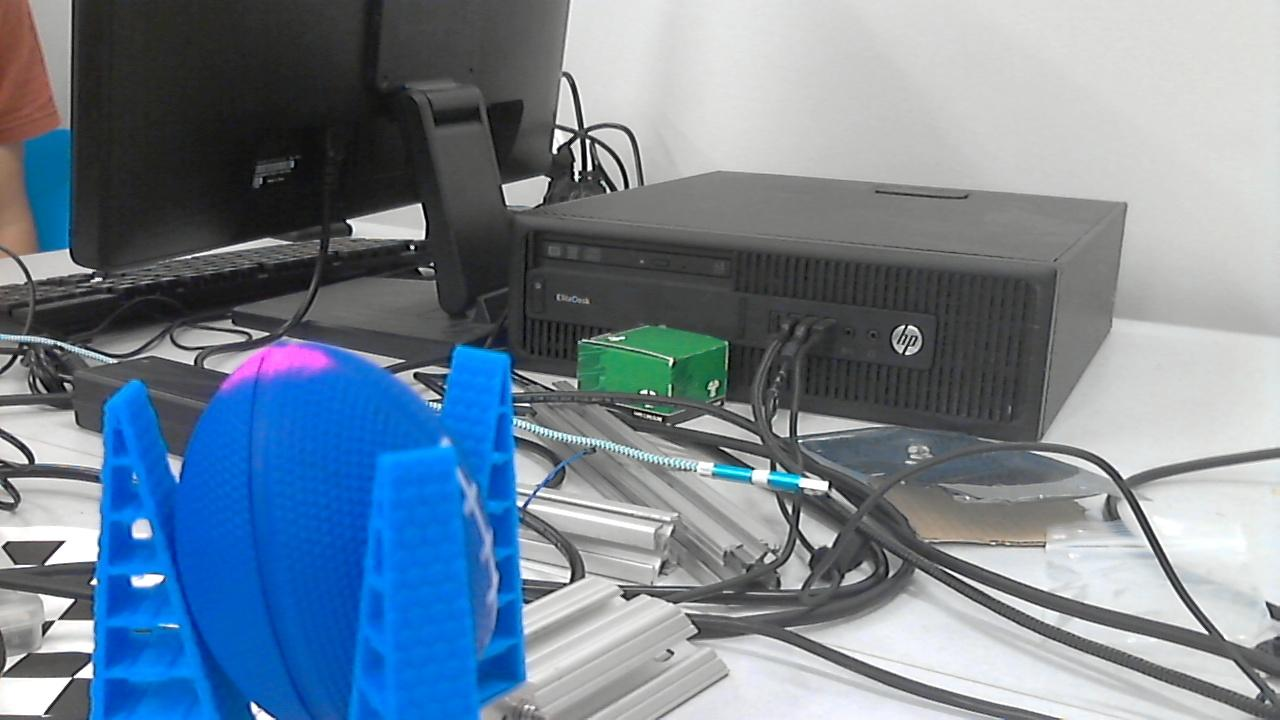Object toy football - Material foam - Color blue - Pdfname VT1ffZoLOnKv: (206, 342, 332, 392)
